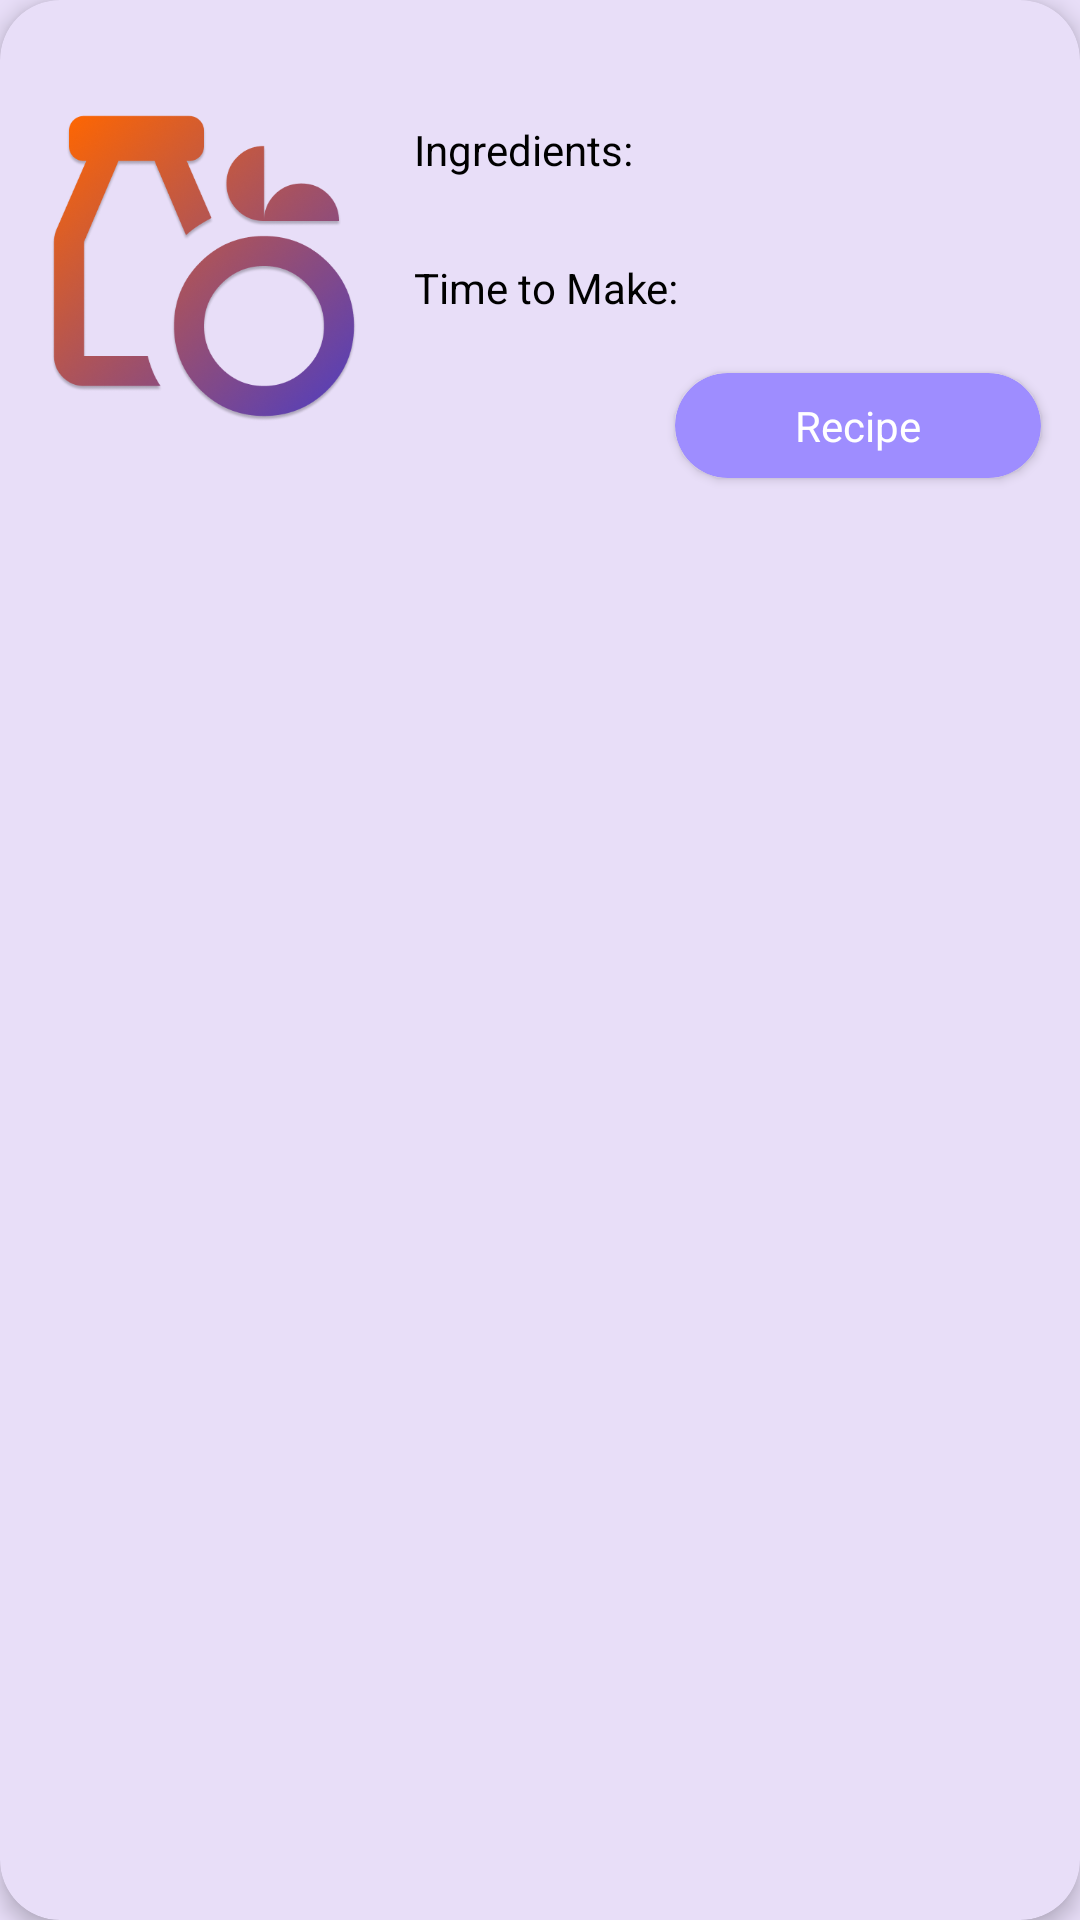

Named icons in this screenshot (1080px×1920px) and their centers, (x=x, y=y):
grocery: (x=204, y=267)
